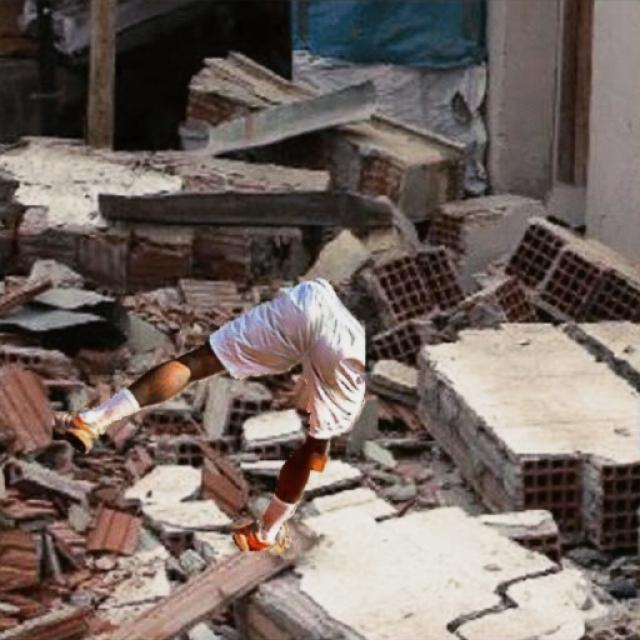Person in Rubble: (52, 278, 364, 550)
